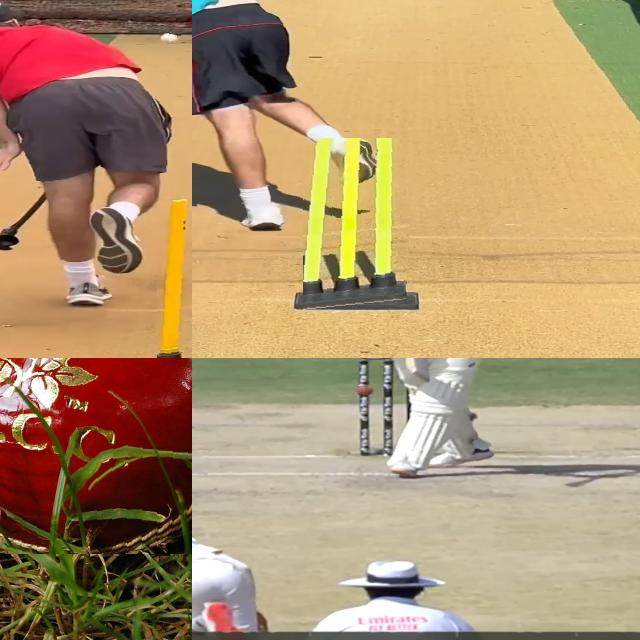Cricket ball: (0, 358, 192, 553), (161, 31, 181, 44), (356, 385, 376, 395)
Stumps: (303, 138, 417, 311), (157, 199, 192, 358)
